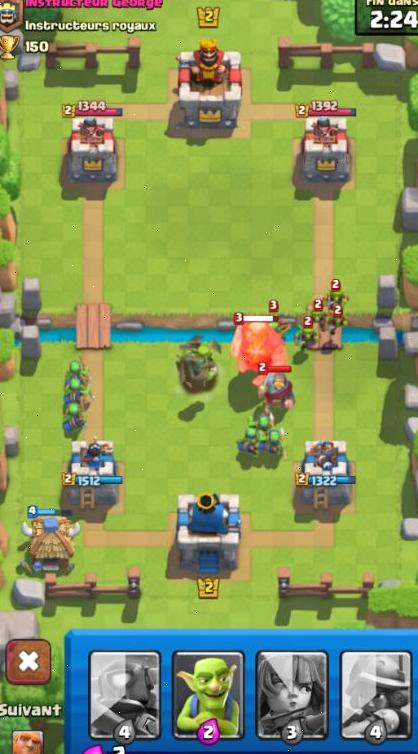enemy_giant: (226, 312, 292, 379)
enemy_goblins: (293, 316, 323, 347), (324, 302, 352, 334), (323, 278, 352, 307)
enemy_knight: (251, 366, 301, 409)
enemy_spear_goblins: (263, 300, 292, 329)
player_goblin_hut: (16, 507, 83, 580)
player_spear_goblins: (234, 419, 263, 455), (259, 425, 289, 458), (62, 355, 91, 381), (60, 406, 88, 432), (247, 401, 278, 424), (61, 384, 94, 403)
